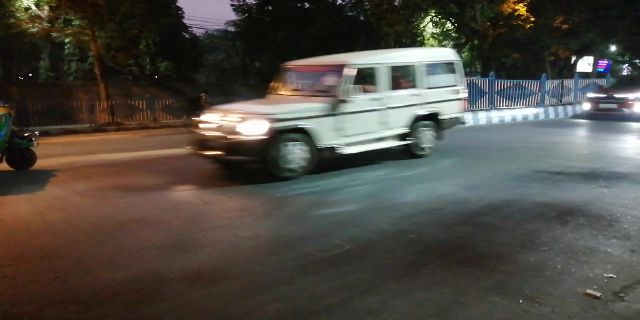Van: (187, 51, 475, 170)
